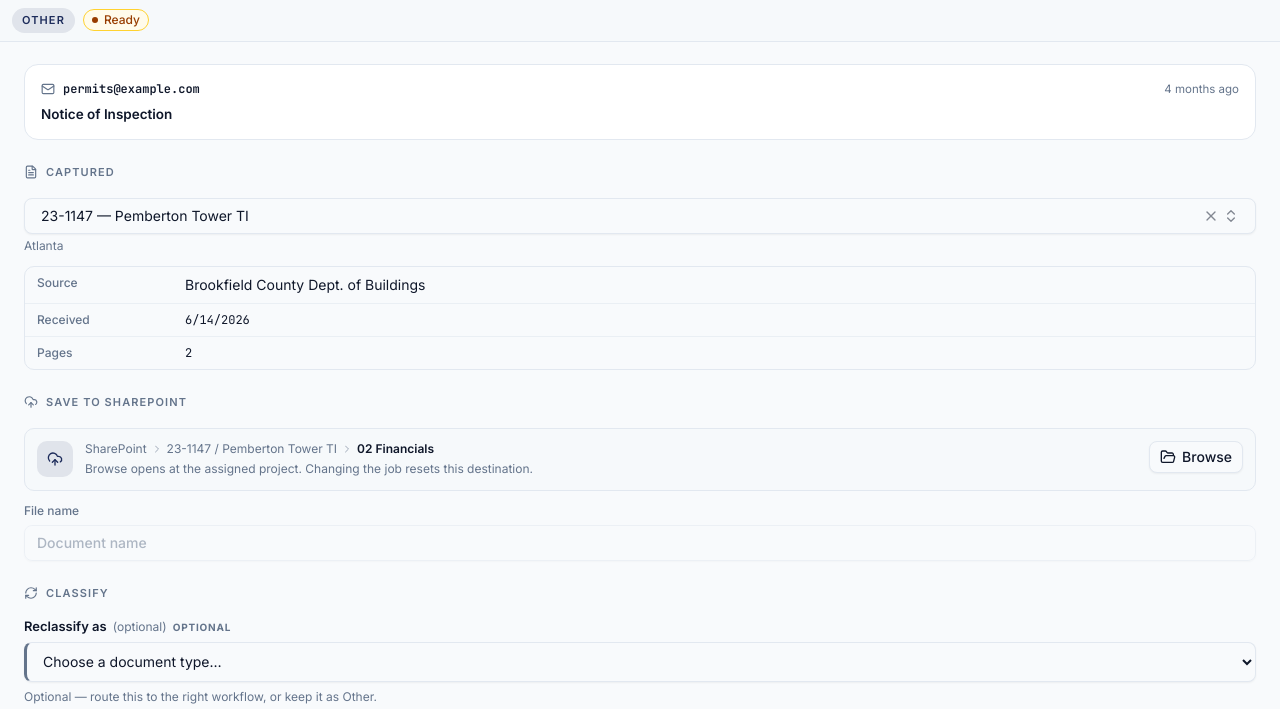
Test: createOtherDocumentSpec › searches and changes jobs, persists the assignment, and resets the prior destination
This screenshot has width=1280, height=709.
Click the dropdown labelled "23-1147 — Pemberton Tower TI" at [145, 216], box [24,198,1256,234]
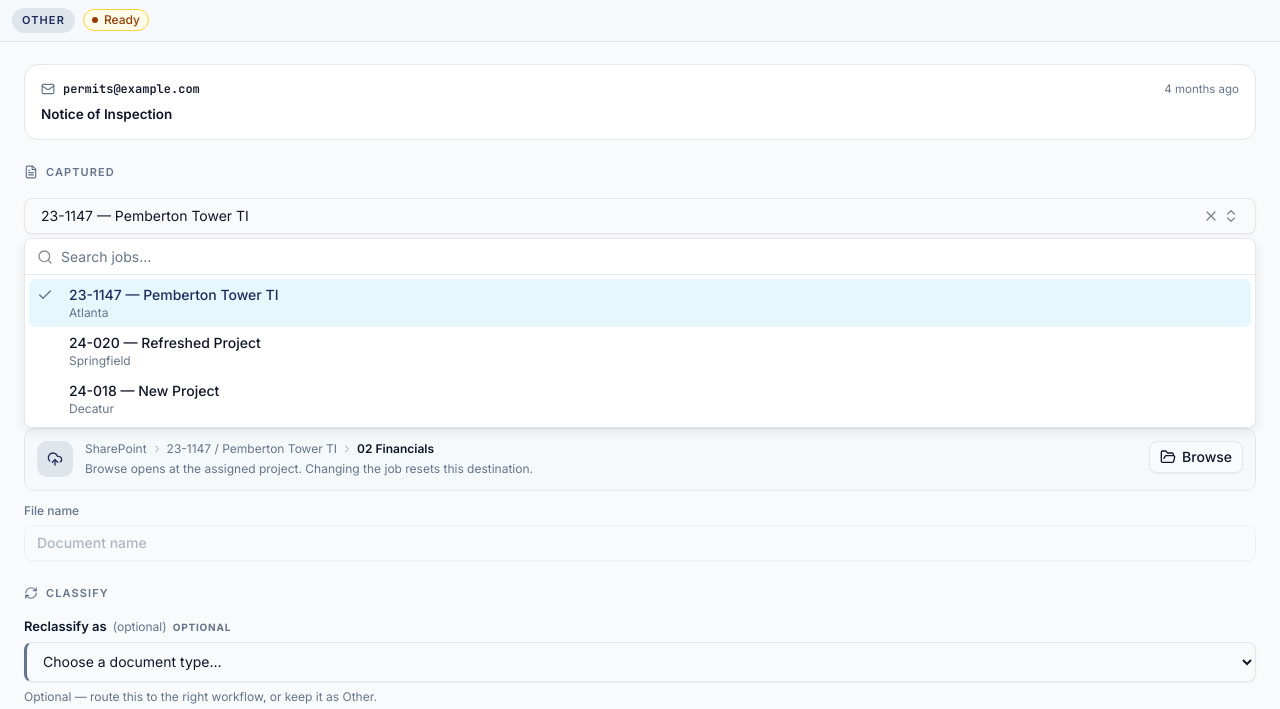
Type "24-018" into the dropdown with placeholder "Search jobs…" at [652, 256], box [61,236,1243,276]
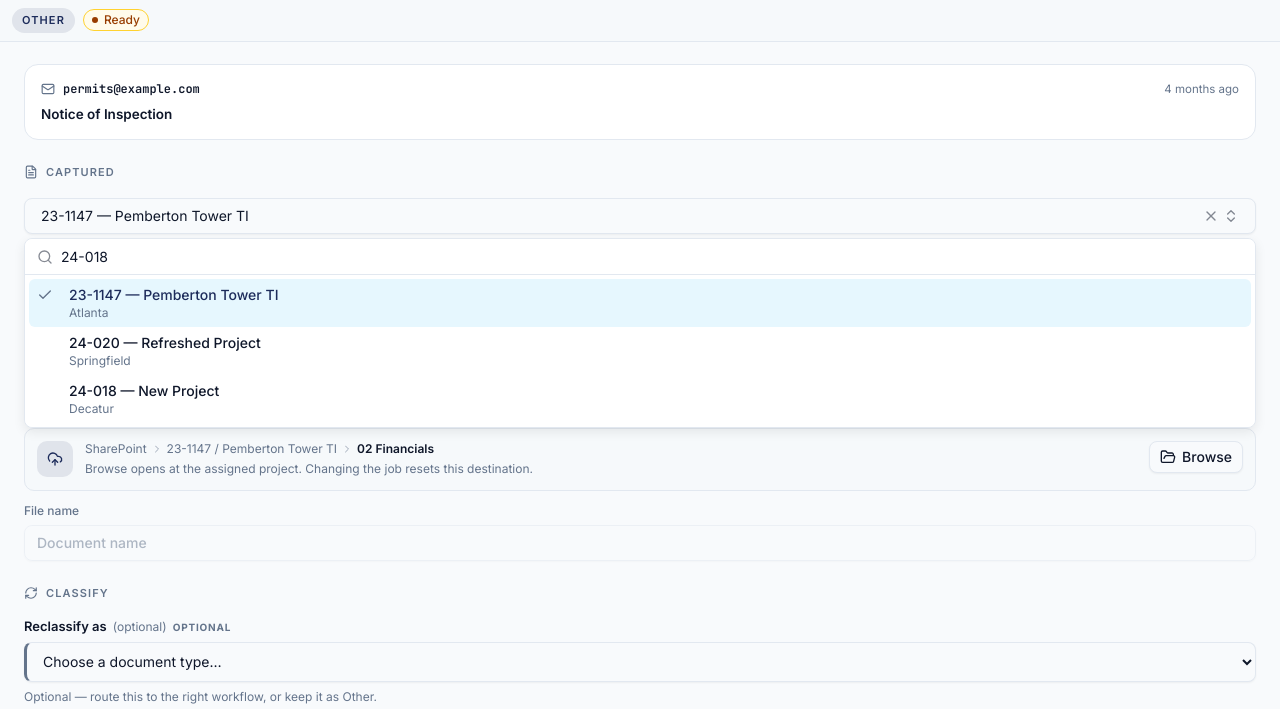
Click the text "24-018 — New Project" at [144, 391], box [69,381,219,401]
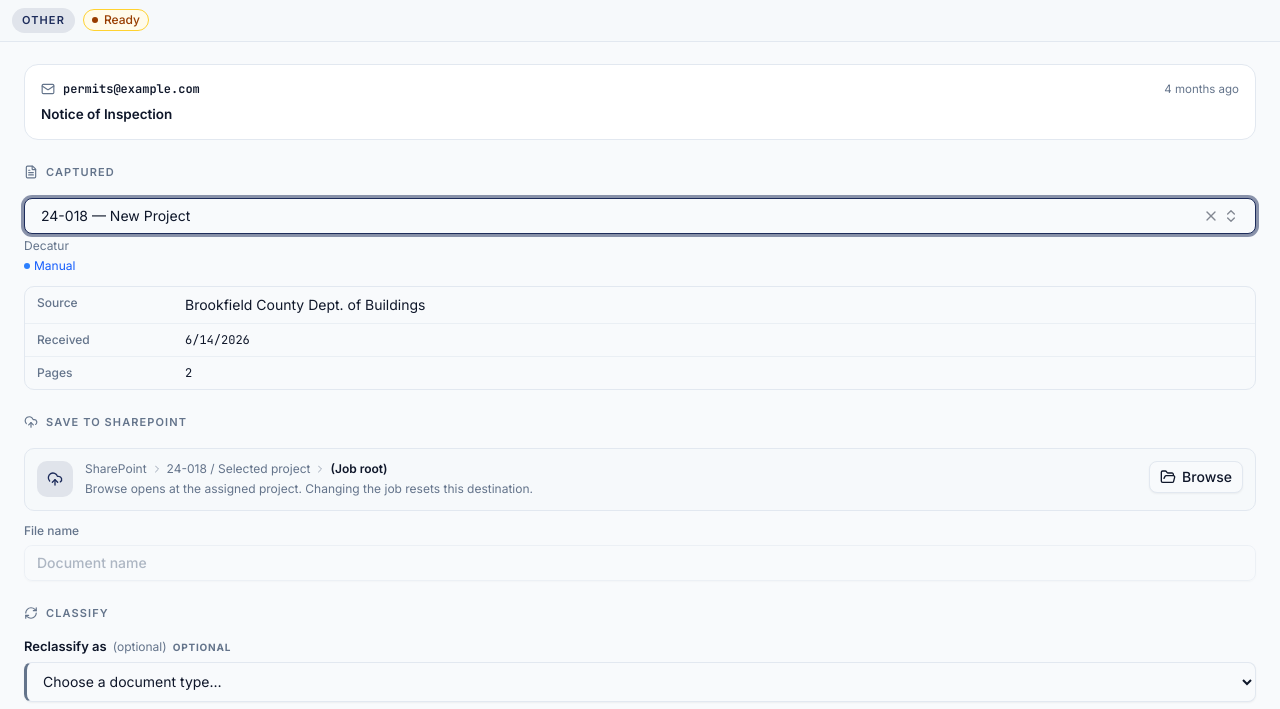
Expected: the text "(Job root)" is shown, [330,461,388,477]
Expected: the text "02 Financials" is gone
Expected: the text "24-018 / Selected project" is shown, [167,461,310,477]
